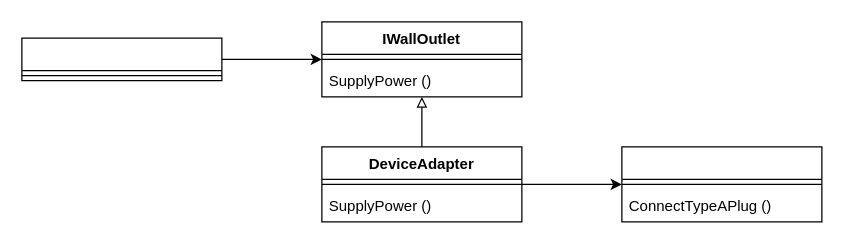
Image size: 844x248. Some labels were removed from this diagram. Each missing label, with the box of its shape:
Client: (21, 37, 222, 81)
DeviceTypeA: (621, 146, 822, 222)
